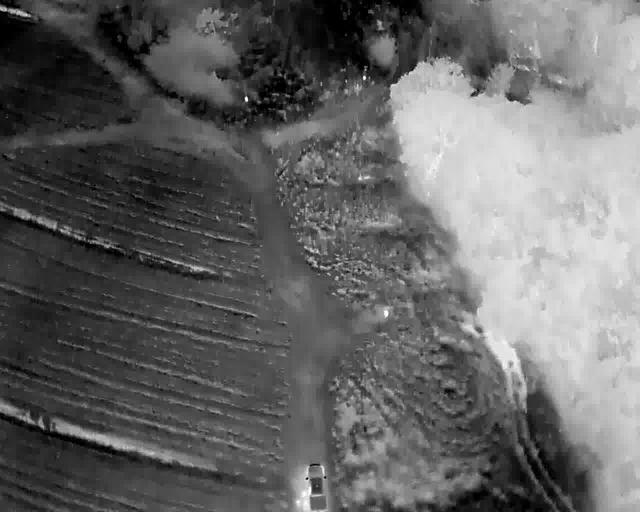car: (306, 461, 327, 510)
person: (383, 310, 389, 318)
